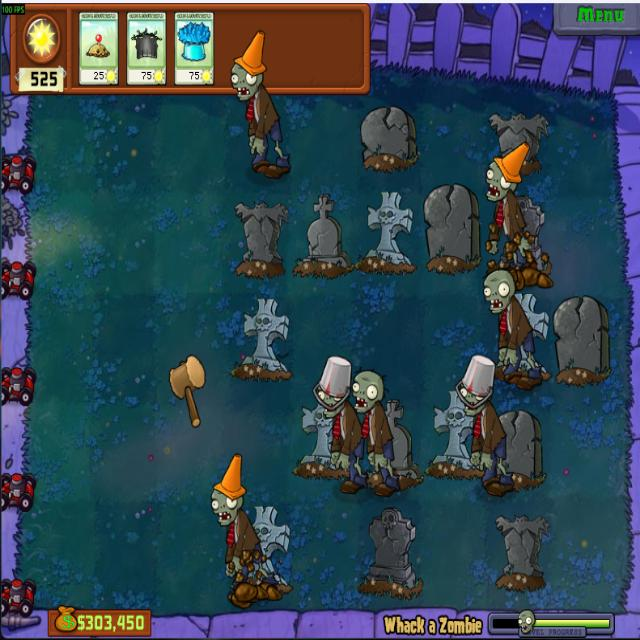buckethead: (311, 353, 353, 417), (454, 352, 496, 416)
conehead: (226, 28, 268, 105), (208, 451, 245, 528), (483, 144, 530, 202)
grave: (421, 182, 482, 274), (364, 401, 424, 492), (360, 508, 420, 596), (553, 296, 611, 386), (235, 504, 294, 592), (428, 388, 483, 481), (493, 294, 549, 380), (233, 298, 291, 381), (495, 510, 550, 593), (360, 191, 415, 272), (234, 198, 290, 277), (489, 408, 542, 488), (293, 398, 345, 478), (297, 196, 348, 276), (359, 105, 419, 172), (504, 194, 550, 280), (488, 107, 546, 170)
gravebuster: (128, 12, 166, 84)
zombie: (479, 267, 519, 317), (351, 369, 387, 417)
